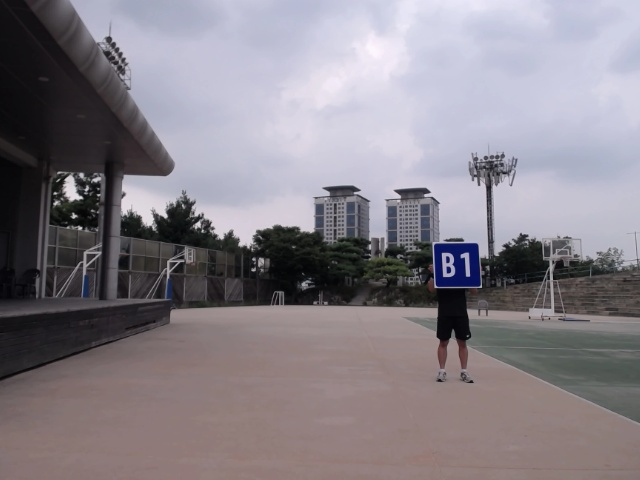delivery_b1: (432, 242, 482, 288)
